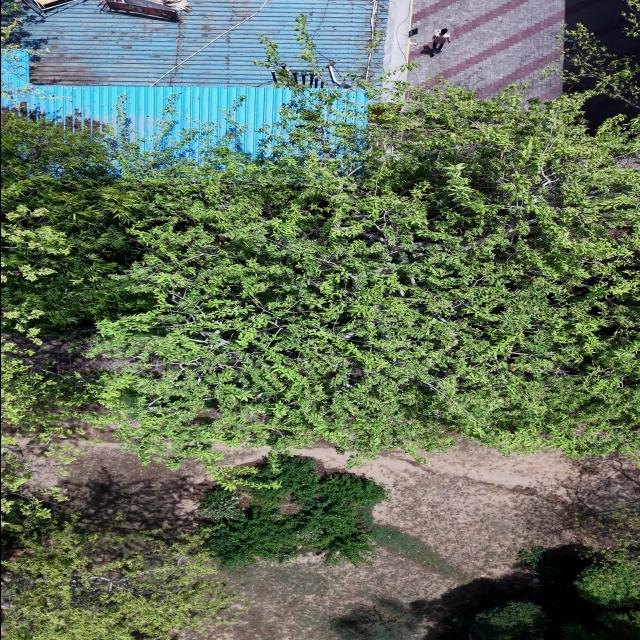DRY_AREA: (183, 440, 639, 639), (185, 441, 637, 639), (219, 445, 531, 639), (352, 441, 615, 576), (185, 547, 456, 639), (409, 0, 639, 98), (33, 427, 209, 537), (409, 0, 566, 98)
ROOFTOP_BUILDING: (7, 0, 629, 151), (5, 0, 393, 151), (21, 0, 387, 86), (1, 85, 291, 151)
VEGETATION_TREE: (1, 29, 639, 639), (3, 56, 639, 469), (4, 87, 639, 462), (88, 87, 639, 459), (1, 342, 241, 639), (1, 458, 384, 639), (1, 112, 135, 511), (1, 106, 115, 529), (408, 458, 639, 639), (1, 112, 155, 340), (1, 498, 240, 639), (425, 497, 639, 639), (1, 523, 236, 639), (201, 456, 386, 567), (426, 546, 639, 639), (1, 333, 92, 512), (557, 461, 639, 639), (558, 467, 639, 639), (522, 456, 639, 554), (547, 0, 639, 124), (564, 493, 639, 639), (562, 498, 639, 639), (560, 24, 639, 113), (457, 601, 639, 639), (471, 601, 639, 639), (1, 493, 80, 558), (331, 599, 421, 639), (575, 558, 639, 607), (474, 601, 550, 639), (562, 610, 639, 639), (624, 0, 639, 36)
